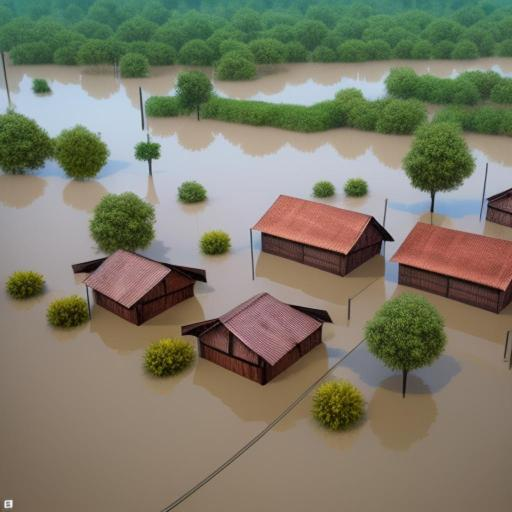flood: (0, 200, 354, 512), (172, 286, 512, 512), (147, 118, 512, 252), (0, 131, 161, 318), (6, 65, 186, 150), (213, 58, 512, 104), (0, 65, 7, 113)
house: (183, 288, 327, 390), (389, 215, 512, 325), (258, 186, 377, 287), (84, 247, 202, 333), (486, 186, 512, 228)
